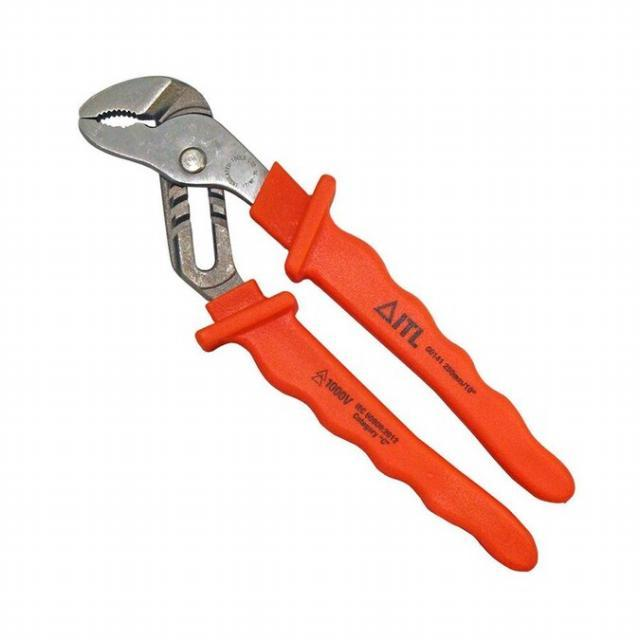pliers: (64, 64, 580, 581)
